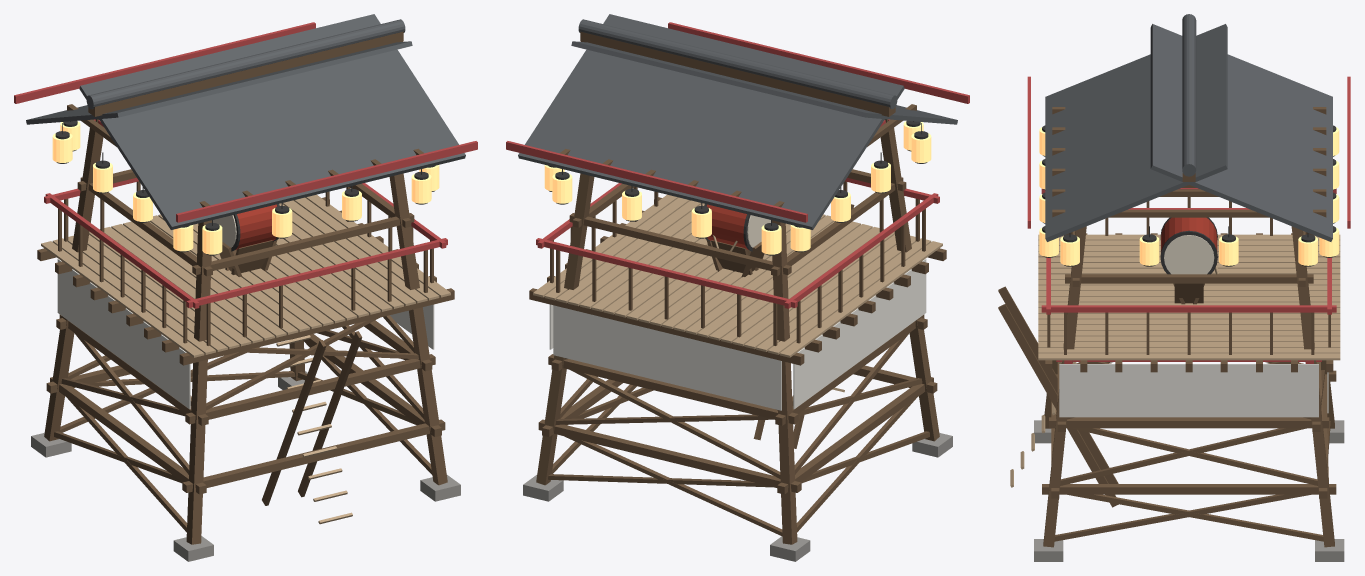
Rendered from stage_yagura_tower.glb.
The picture shows the model from 3 angles, left to right: view 1: azimuth 30°, elevation 25°; view 2: azimuth 150°, elevation 25°; view 3: azimuth 270°, elevation 25°; orthographic projection.
Parts seen in each view (by area): view 1: RoofSlope_North, Curtain_2, RoofRidgeRoll, MainPost_1, MainPost_0, RoofSlope_South, RoofRidgeBeam, MainPost_3, Fascia_N, RingBeam_0_0, RingBeam_1_0, Fascia_S (+50 smaller); view 2: RoofSlope_South, Curtain_1, Curtain_2, RoofRidgeRoll, MainPost_3, RoofSlope_North, MainPost_2, RoofRidgeBeam, MainPost_0, Fascia_S, RingBeam_0_1, RingBeam_1_1 (+45 smaller); view 3: RoofSlope_South, RoofSlope_North, Curtain_3, RingBeam_1_3, RingBeam_0_3, MainPost_2, MainPost_1, RoofRidgeRoll, StagePlank_21, HandRail_3, RingBeam_3_3, StagePlank_20 (+40 smaller).
Boxes of the visible parts, box(x1,y1,x2,y2) form: RoofSlope_North: box(79, 14, 465, 229); Curtain_2: box(57, 259, 190, 409); RoofRidgeRoll: box(86, 19, 405, 109); MainPost_1: box(389, 173, 447, 485); MainPost_0: box(186, 220, 211, 544); RoofSlope_South: box(26, 41, 412, 124); RoofRidgeBeam: box(88, 31, 403, 116); MainPost_3: box(44, 119, 103, 441); Fascia_N: box(176, 141, 477, 222); RingBeam_0_0: box(182, 419, 445, 492); RingBeam_1_0: box(185, 354, 435, 424); Fascia_S: box(14, 22, 315, 103); RoofSlope_South: box(518, 14, 904, 229); Curtain_1: box(553, 305, 781, 410); Curtain_2: box(793, 259, 926, 409); RoofRidgeRoll: box(578, 19, 897, 109); MainPost_3: box(772, 220, 797, 544); RoofSlope_North: box(571, 41, 957, 124); MainPost_2: box(536, 173, 594, 485); RoofRidgeBeam: box(580, 31, 895, 116); MainPost_0: box(880, 119, 939, 441); Fascia_S: box(506, 141, 807, 222); RingBeam_0_1: box(538, 419, 801, 492); RingBeam_1_1: box(548, 354, 798, 424); RoofSlope_South: box(1150, 24, 1332, 241); RoofSlope_North: box(1045, 24, 1227, 241); Curtain_3: box(1059, 364, 1318, 417); RingBeam_1_3: box(1049, 417, 1329, 428); RingBeam_0_3: box(1042, 484, 1336, 494); MainPost_2: box(1291, 226, 1334, 547); MainPost_1: box(1043, 226, 1086, 547); RoofRidgeRoll: box(1182, 14, 1196, 176); StagePlank_21: box(1038, 353, 1340, 360); HandRail_3: box(1041, 305, 1336, 312); RingBeam_3_3: box(1065, 274, 1313, 283); StagePlank_20: box(1038, 347, 1340, 353).
Bounding box in the file's own units: 1.53 × 1.95 × 1.52.
